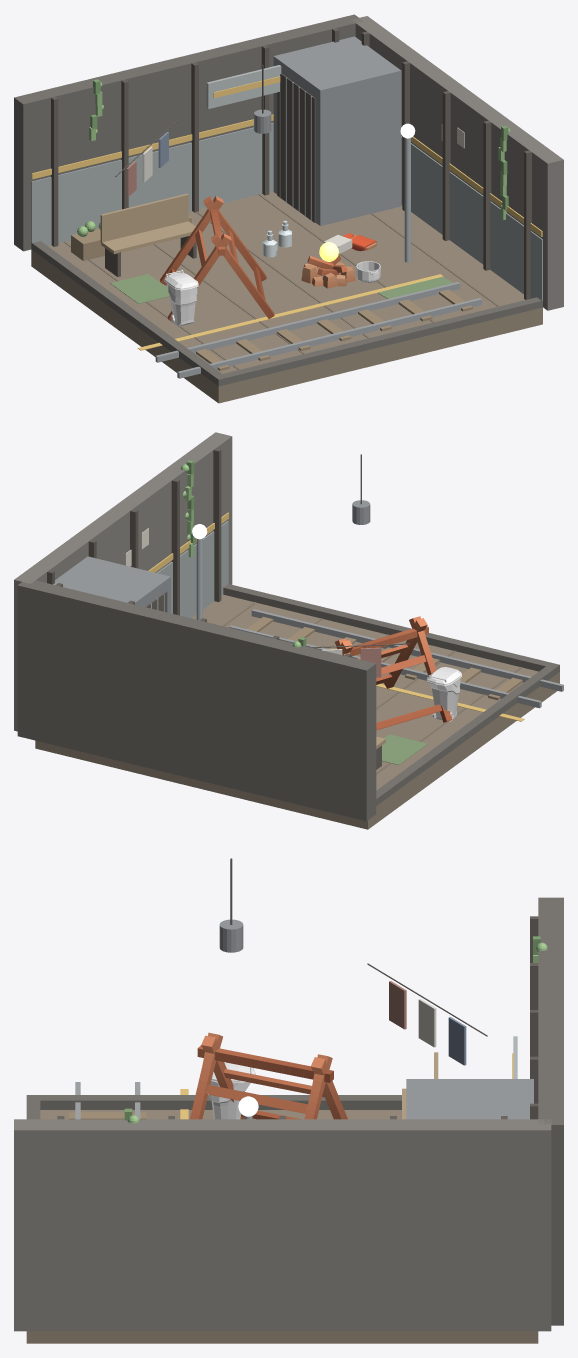
File: hall.glb
The picture shows the model from 3 angles, top to bottom: view 1: azimuth 30°, elevation 25°; view 2: azimuth 150°, elevation 25°; view 3: azimuth 270°, elevation 25°; orthographic projection. The views are drawn at different scales.
Parts seen in each view (by area): view 1: floor, wallY, cage, wallX, tilesY, tilesX, cageDoor, curbY, tent, curbX, benchb, rail1 (+22 smaller); view 2: wallY, floor, wallX, curbY, cage, tent, curbX, tilesX, rail2, bx-2, Trashcan, bx-1 (+4 smaller); view 3: wallX, floor, wallY, tent, cage, curbX, Trashcan, cloth.001, cloth.002, lamp, cloth.
Part boxes in pixels (<box>): floor: <box>31,191,542,403</box>; wallY: <box>14,14,362,251</box>; cage: <box>273,36,401,225</box>; wallX: <box>352,16,563,310</box>; tilesY: <box>31,122,273,245</box>; tilesX: <box>401,136,542,300</box>; cageDoor: <box>277,73,315,222</box>; curbY: <box>218,297,542,386</box>; tent: <box>160,196,274,320</box>; curbX: <box>31,241,227,386</box>; benchb: <box>100,193,188,243</box>; rail1: <box>155,282,460,362</box>; wallY: <box>17,580,376,821</box>; floor: <box>35,594,559,829</box>; wallX: <box>14,432,232,731</box>; curbY: <box>223,584,559,674</box>; cage: <box>53,556,170,613</box>; tent: <box>335,616,452,736</box>; curbX: <box>376,662,559,805</box>; tilesX: <box>157,521,228,618</box>; rail2: <box>251,609,563,691</box>; bx-2: <box>213,448,221,602</box>; Trashcan: <box>426,667,461,721</box>; bx-1: <box>171,478,179,615</box>; wallX: <box>14,1119,551,1331</box>; floor: <box>26,1110,538,1343</box>; wallY: <box>538,897,563,1325</box>; tent: <box>190,1032,347,1119</box>; cage: <box>406,1079,533,1119</box>; curbX: <box>26,1095,401,1109</box>; Trashcan: <box>209,1062,255,1119</box>; cloth.001: <box>418,999,436,1047</box>; cloth.002: <box>448,1017,466,1065</box>; lamp: <box>219,919,243,952</box>; cloth: <box>389,981,406,1029</box>.
Bounding box in the file's own units: 6.7 × 4.5 × 6.45.
32 materials, 4 textured.
